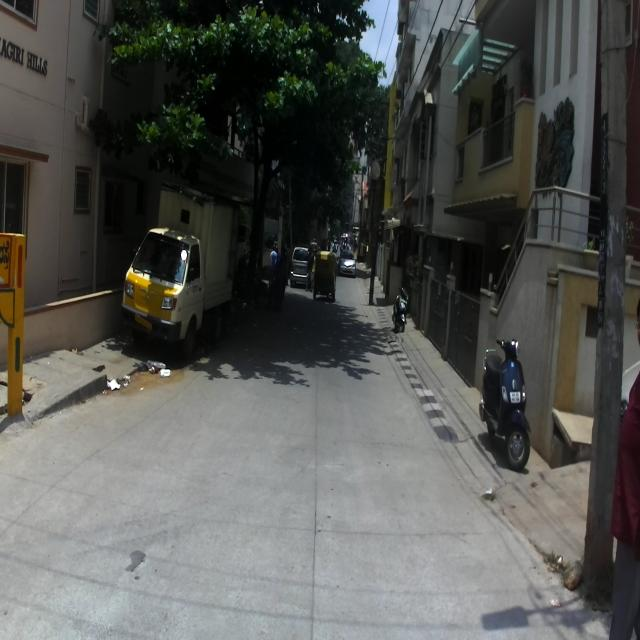car ahead at: (120, 186, 237, 352)
electric pole ahead at: (581, 1, 627, 599)
motorcycle ahead at: (478, 334, 536, 466)
